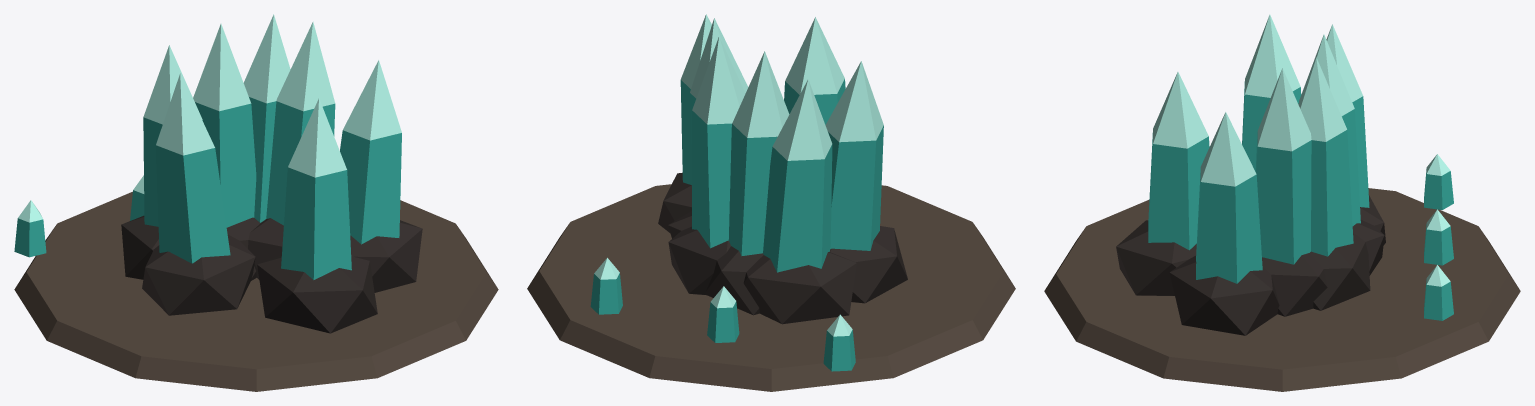
Rendered from Field_Crystal_3.fbx.
The picture shows the model from 3 angles, left to right: view 1: azimuth 30°, elevation 25°; view 2: azimuth 150°, elevation 25°; view 3: azimuth 270°, elevation 25°; orthographic projection. The views are drawn at different scales.
Parts seen in each view (by area): view 1: Field_Crystal_3; view 2: Field_Crystal_3; view 3: Field_Crystal_3.
Boxes of the visible parts, <box> form: Field_Crystal_3: <box>14,14,498,391</box>; Field_Crystal_3: <box>527,14,1015,391</box>; Field_Crystal_3: <box>1044,14,1520,391</box>.
Bounding box in the file's own units: 2 × 1.18 × 2.
1 material, 1 textured.
